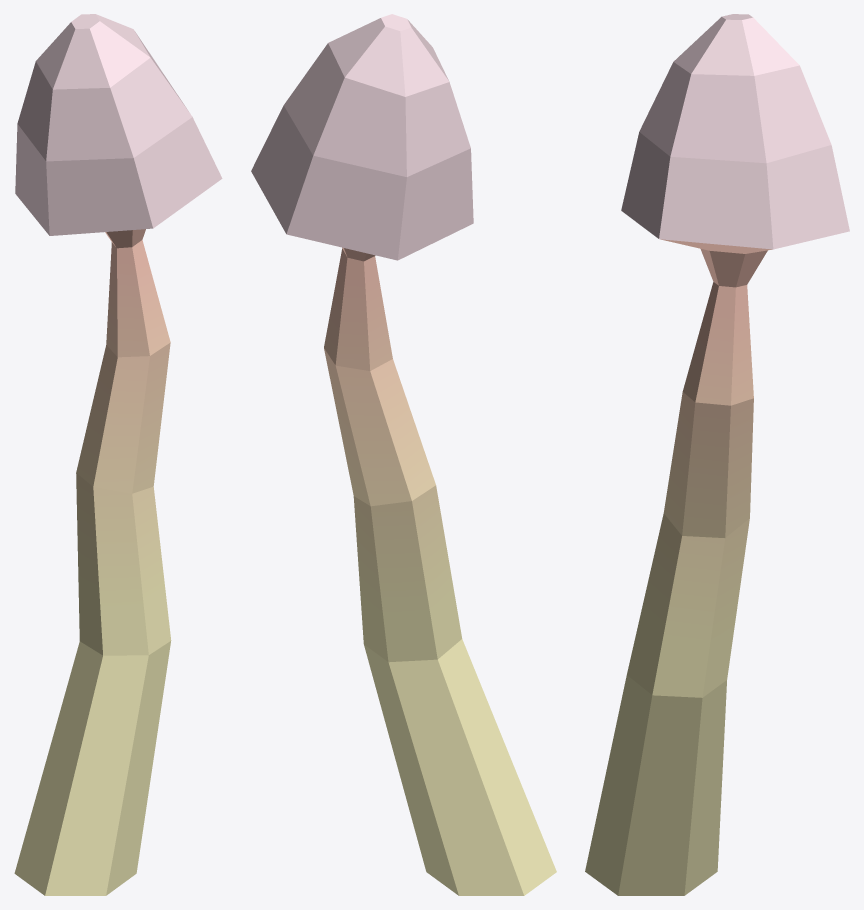
Rendered from mushroom_012.fbx.
3 renders of one model, left to right at view 1: azimuth 30°, elevation 25°; view 2: azimuth 150°, elevation 25°; view 3: azimuth 270°, elevation 25°, orthographic. The views are drawn at different scales.
Parts seen in each view (by area): view 1: mushroom.012; view 2: mushroom.012; view 3: mushroom.012.
Part boxes in pixels (x1,y1,x2,y2): mushroom.012: [14, 14, 222, 895]; mushroom.012: [251, 14, 556, 895]; mushroom.012: [585, 14, 849, 895].
Size of the model in its own units: 496 by 1800 by 489.
1 material, 1 textured.
